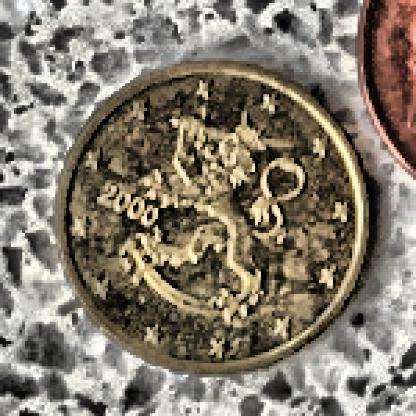coin: (60, 55, 366, 376)
